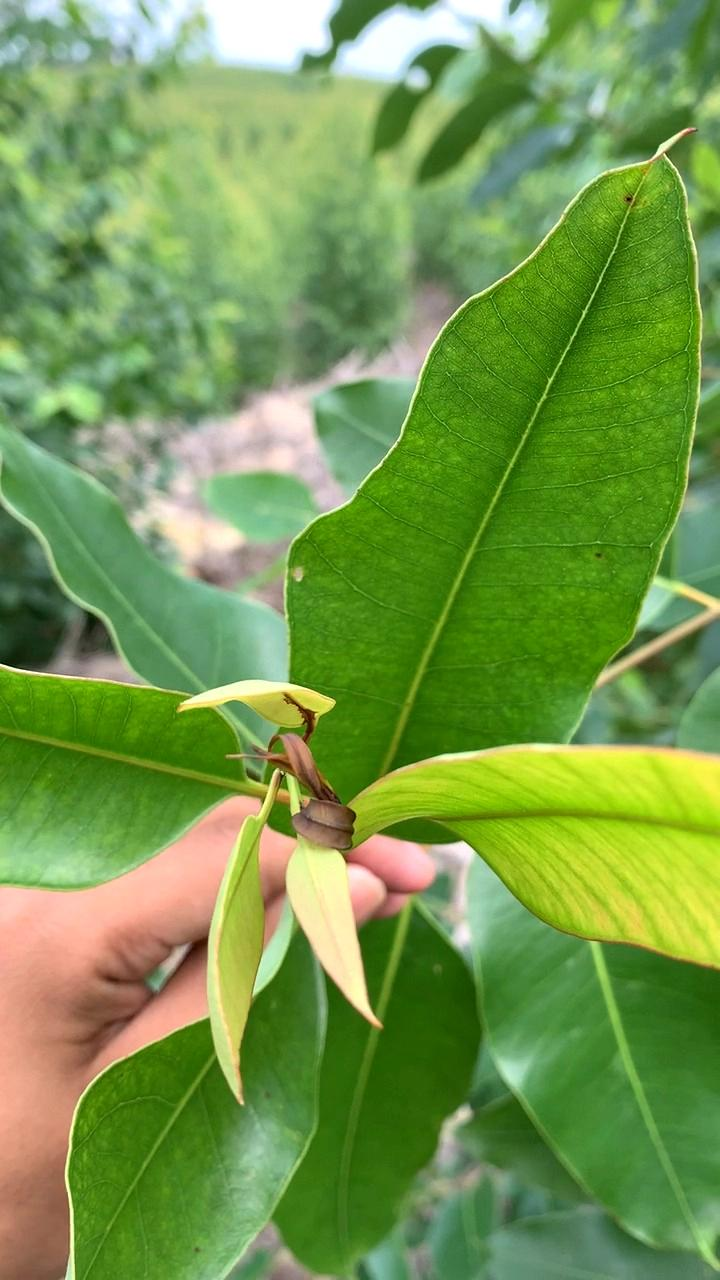Helopeltis-Withered Sprout: (252, 732, 357, 850)
